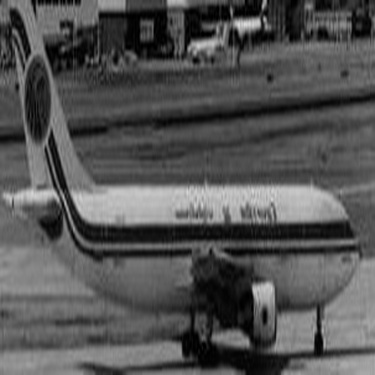airplane: (1, 4, 371, 371), (176, 19, 228, 67)
